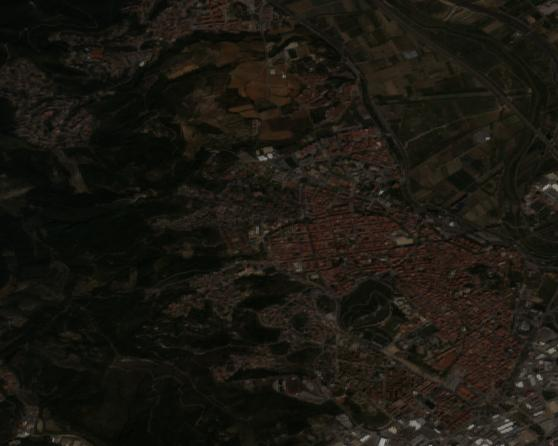Agricola: (352, 24, 558, 231)
Industria: (328, 393, 558, 446), (499, 310, 558, 446)
Poblacion: (193, 129, 558, 446), (67, 1, 304, 85), (244, 55, 413, 148), (1, 48, 109, 159)
